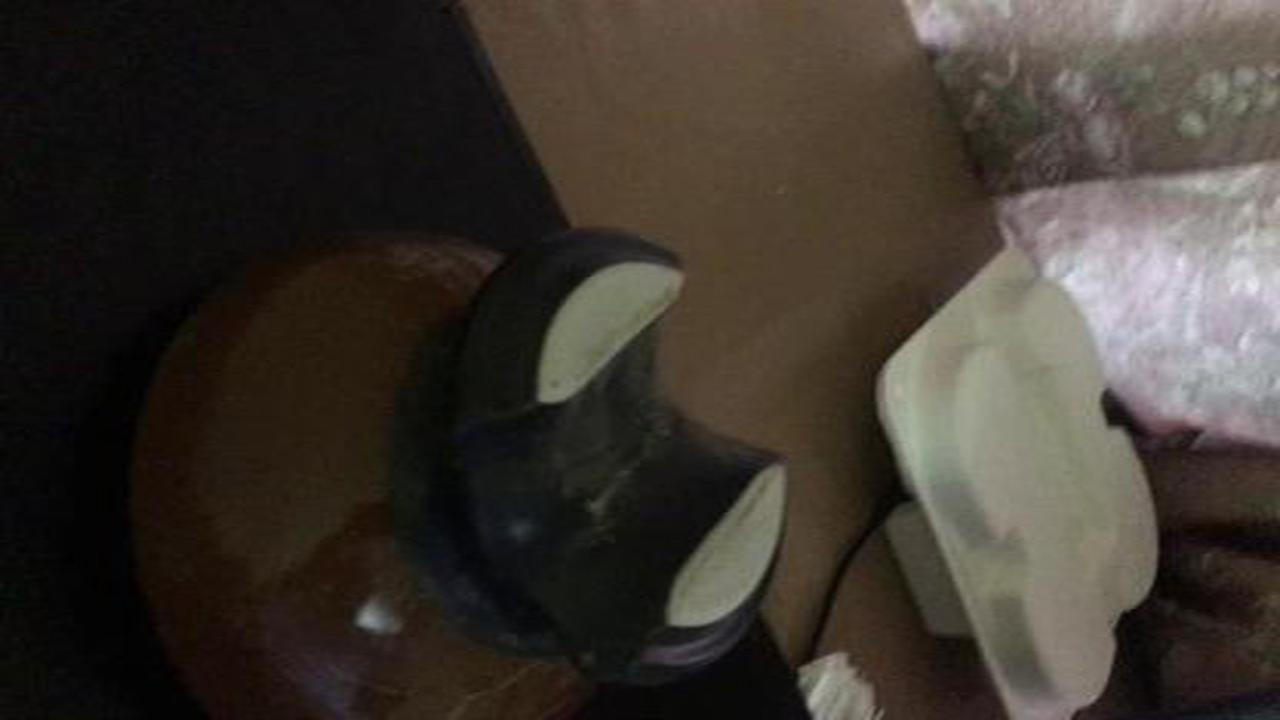insulator_pin: (105, 217, 810, 714)
